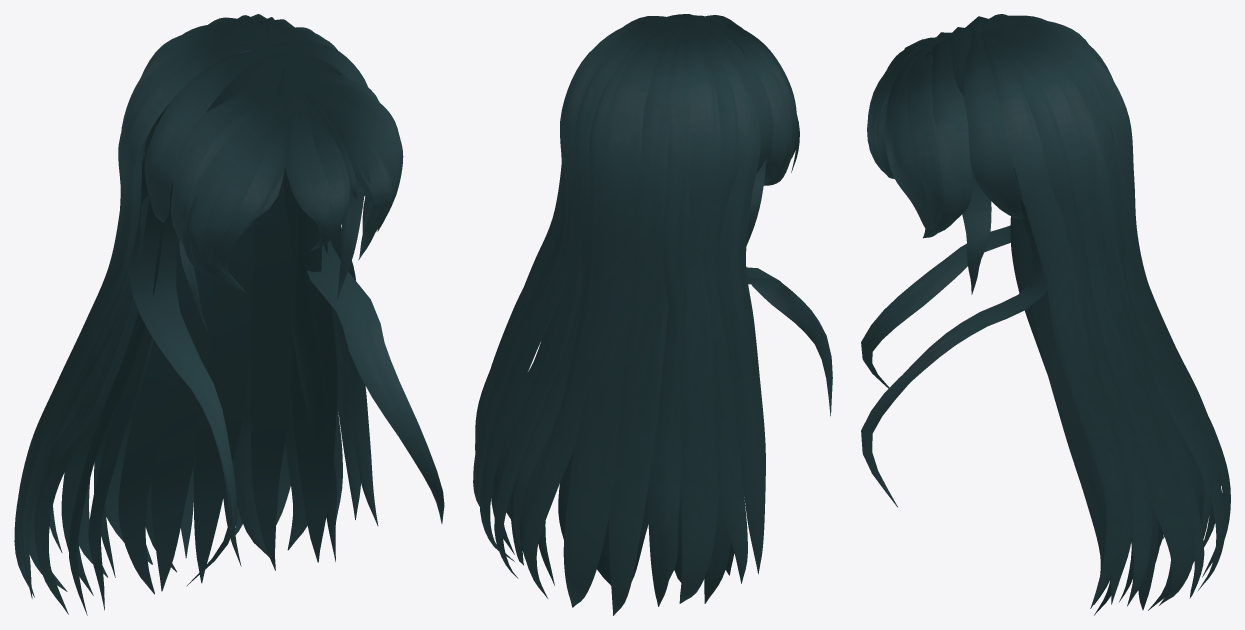
File: ohishiizumi_Test5.glb
3 views of the same model, side by side, from view 1: azimuth 30°, elevation 25°; view 2: azimuth 150°, elevation 25°; view 3: azimuth 270°, elevation 25° (orthographic). The views are drawn at different scales.
Parts seen in each view (by area): view 1: Hair; view 2: Hair; view 3: Hair.
Part boxes in pixels (x1,y1,x2,y2): Hair: (14, 14, 444, 615); Hair: (473, 14, 832, 615); Hair: (861, 14, 1230, 615).
Size of the model in its own units: 347 by 597 by 364.
1 material, 1 textured.
